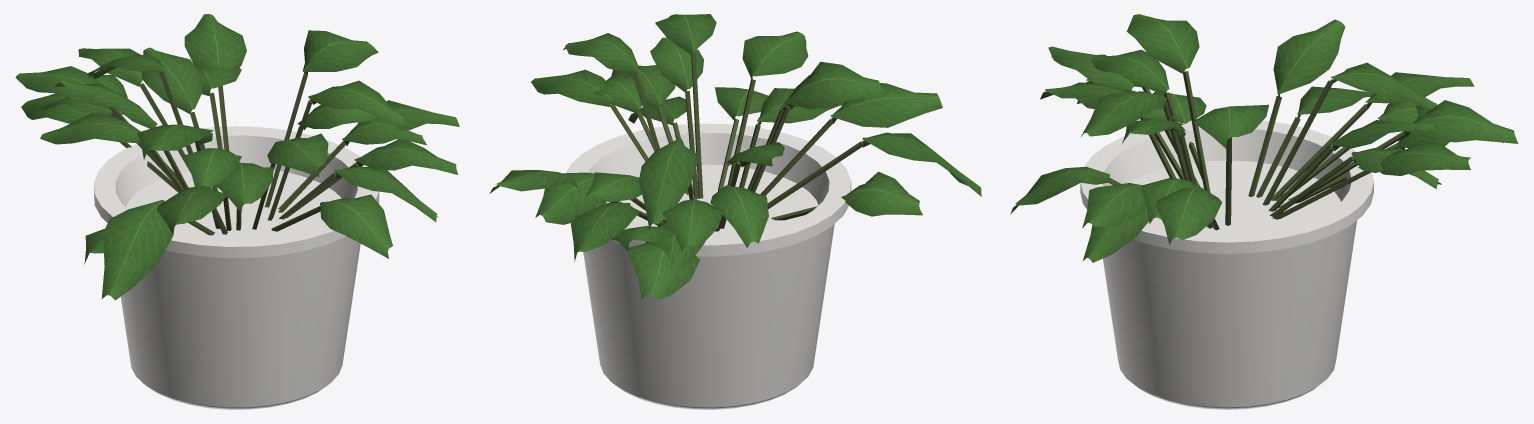
Rendered from vuena-ap-plant-small.glb.
The picture shows the model from 3 angles, left to right: view 1: azimuth 30°, elevation 25°; view 2: azimuth 150°, elevation 25°; view 3: azimuth 270°, elevation 25°; orthographic projection. The views are drawn at different scales.
Parts seen in each view (by area): view 1: ap_plant_small; view 2: ap_plant_small; view 3: ap_plant_small.
Boxes of the visible parts, x1,y1,x2,y2 form: ap_plant_small: (15,14,459,409); ap_plant_small: (489,14,981,409); ap_plant_small: (1010,14,1518,409).
Bounding box in the file's own units: 0.3007 × 0.2152 × 0.3223.
4 materials, 1 textured.
